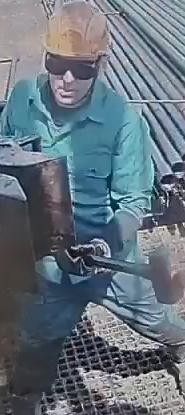gloves: (59, 235, 116, 286)
goggles: (41, 49, 104, 82)
helmet: (40, 0, 110, 61)
vest: (5, 79, 151, 288)
